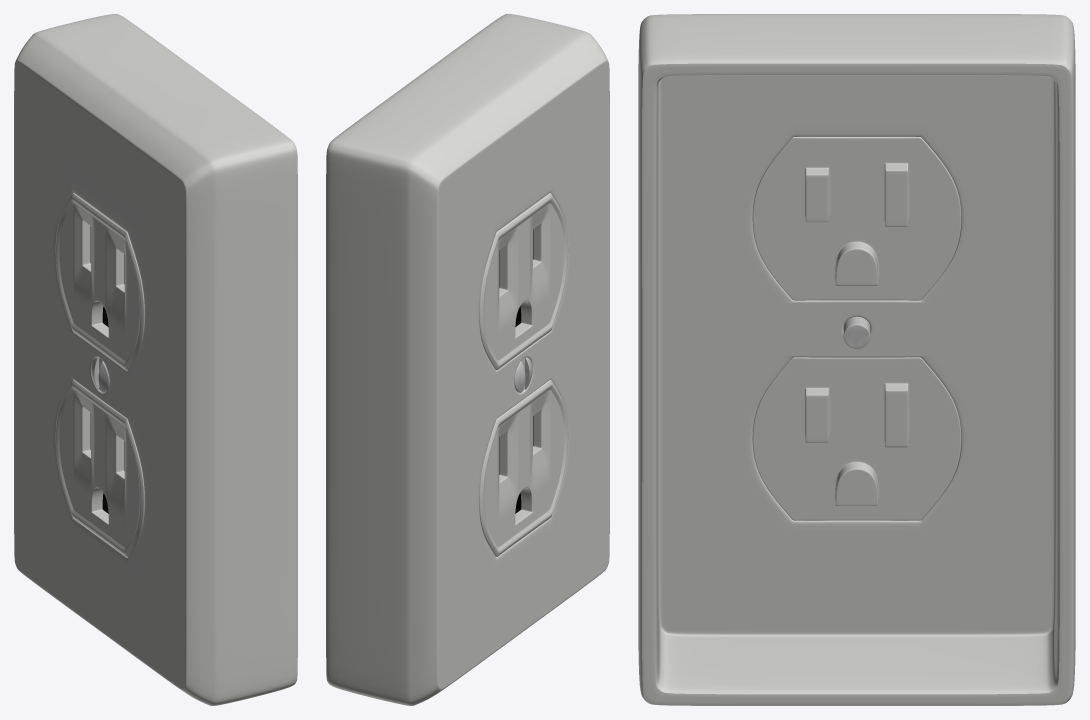
Rendered from Lv3_wwallplate.fbx.
3 renders of one model, left to right at view 1: azimuth 30°, elevation 25°; view 2: azimuth 150°, elevation 25°; view 3: azimuth 270°, elevation 25°, orthographic. The views are drawn at different scales.
Visible parts, largest first — view 1: Wallplate; view 2: Wallplate; view 3: Wallplate.
Part boxes in pixels (x1,y1,x2,y2): Wallplate: (14,14,297,705); Wallplate: (326,14,609,705); Wallplate: (638,14,1075,705).
Size of the model in its own units: 1.36 by 6.46 by 3.95.
Materials: 1 (1 with a texture image).
